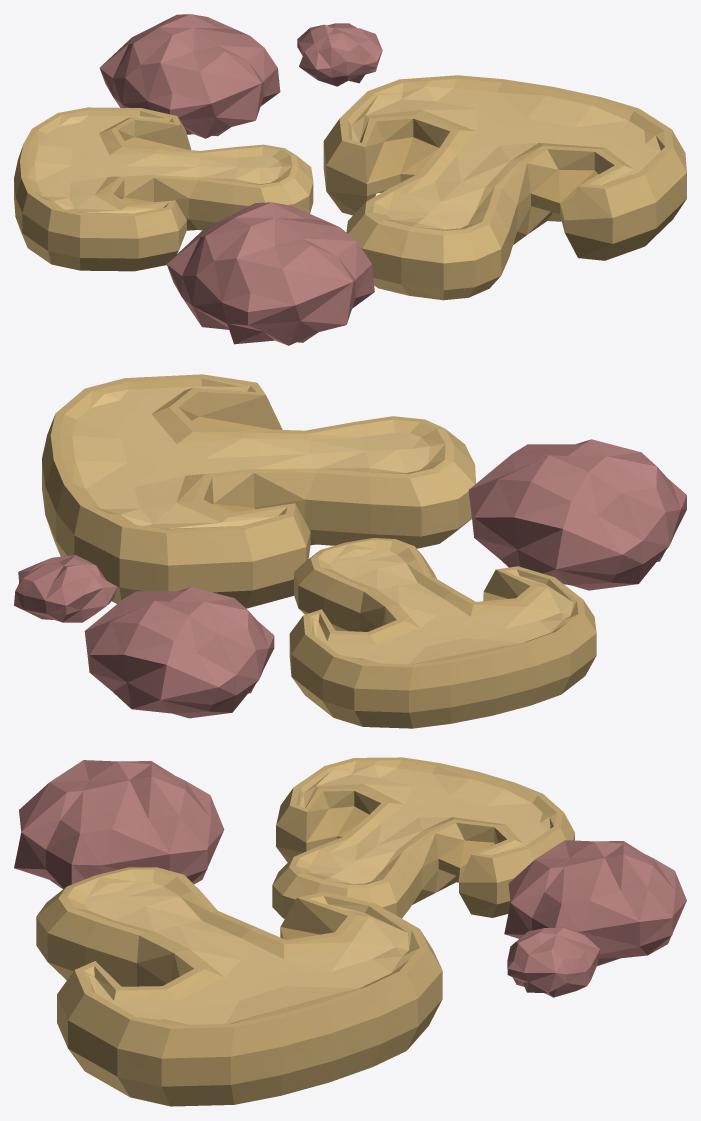
Rendered from mushrooms_sliced.obj.
3 renders of one model, top to bottom at view 1: azimuth 30°, elevation 25°; view 2: azimuth 150°, elevation 25°; view 3: azimuth 270°, elevation 25°, orthographic. The views are drawn at different scales.
Visible parts, largest first — view 1: mushrooms_sliced_Material; view 2: mushrooms_sliced_Material; view 3: mushrooms_sliced_Material.
Boxes of the visible parts, <box> form: mushrooms_sliced_Material: <box>14,14,686,345</box>; mushrooms_sliced_Material: <box>14,374,686,728</box>; mushrooms_sliced_Material: <box>14,757,686,1106</box>.
Size of the model in its own units: 0.075 by 0.0152 by 0.073.
